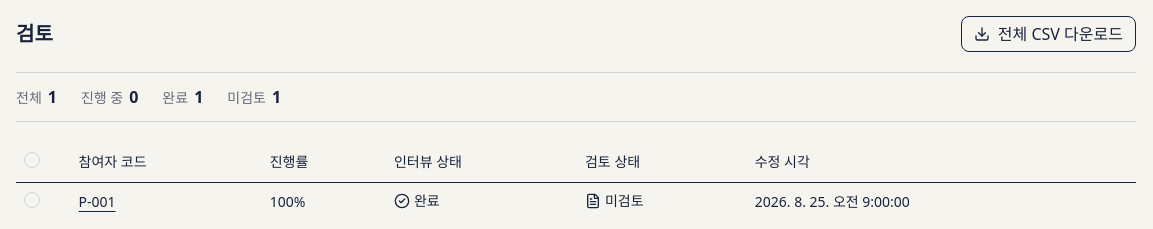
administrator interview queue › selects and clears the whole queue at once
Expected: the link "P-001" is shown, [79, 192, 116, 211]
Click the checkbox named "전체 선택".
click(32, 160)  # box [24, 152, 40, 168]
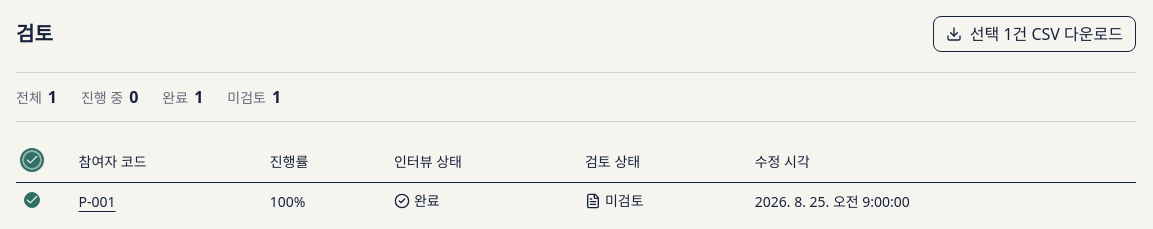
Now the checkbox named "P-001 선택" is checked, box [24, 192, 40, 208]
Click the checkbox named "전체 선택".
click(32, 160)  # box [24, 152, 40, 168]
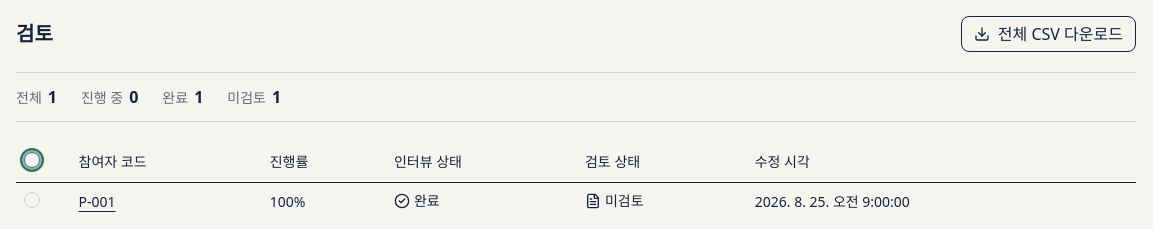
Now the checkbox named "P-001 선택" is not checked, box [24, 192, 40, 208]
